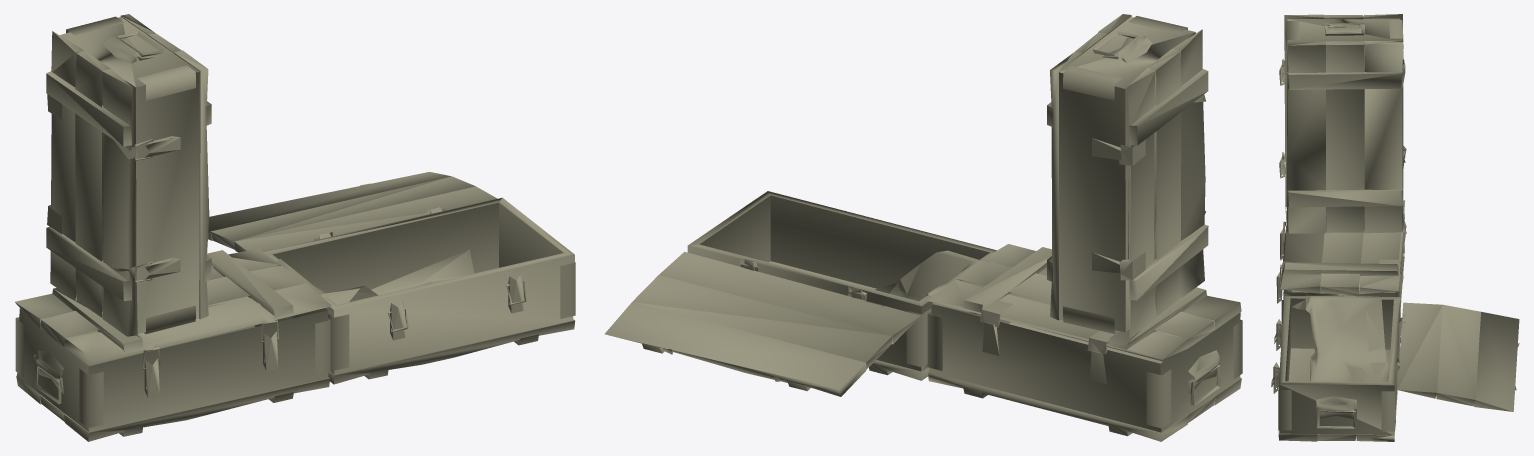
Rendered from Dress_CaseStack_Low.fbx.
The picture shows the model from 3 angles, left to right: view 1: azimuth 30°, elevation 25°; view 2: azimuth 150°, elevation 25°; view 3: azimuth 270°, elevation 25°; orthographic projection. The views are drawn at different scales.
Parts seen in each view (by area): view 1: Dress_CaseStack_Low; view 2: Dress_CaseStack_Low; view 3: Dress_CaseStack_Low.
Part boxes in pixels (left/top/right/bottom): Dress_CaseStack_Low: left=15, top=14, right=575, bottom=441; Dress_CaseStack_Low: left=604, top=14, right=1242, bottom=441; Dress_CaseStack_Low: left=1271, top=14, right=1519, bottom=441.
Bounding box in the file's own units: 146 × 101 × 84.06.
